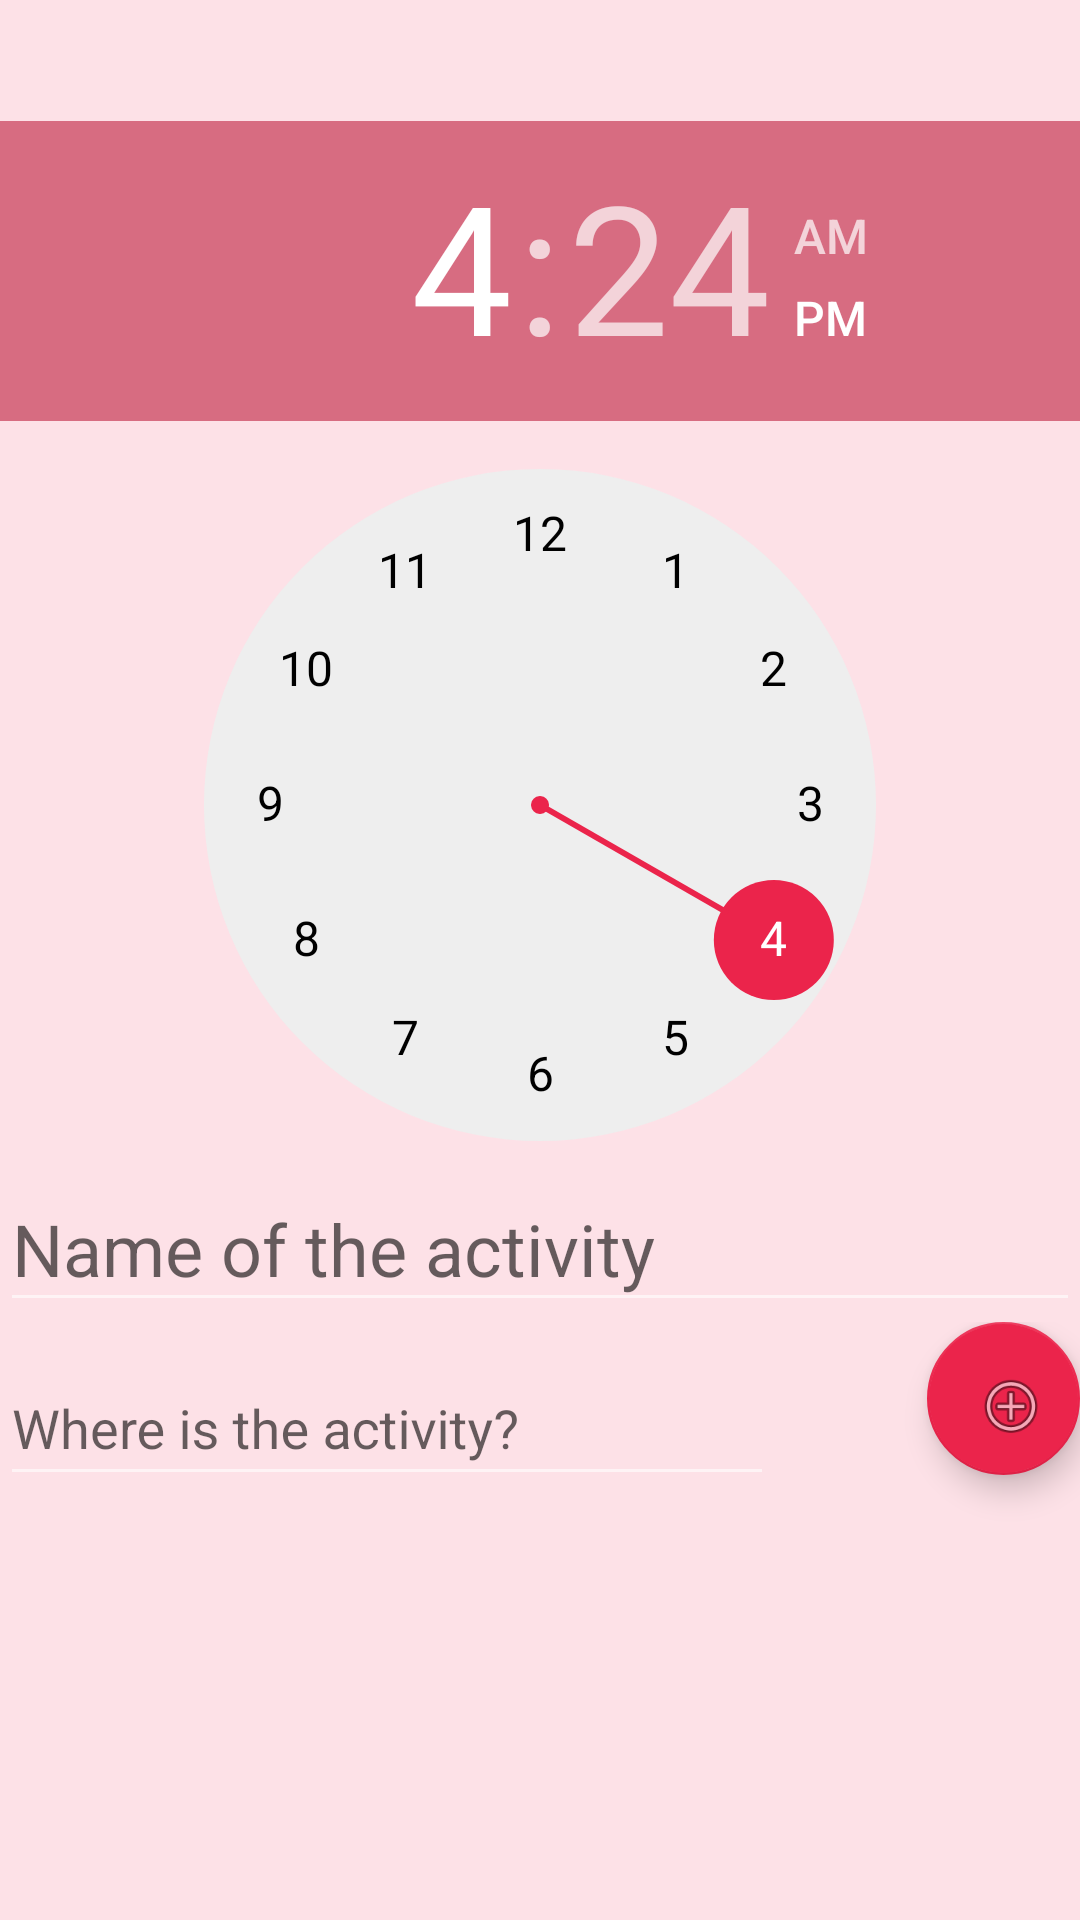

Icon click points for this 1080 x 1920 phone screenshot, format point (x, y):
add: point (1003, 1398)
